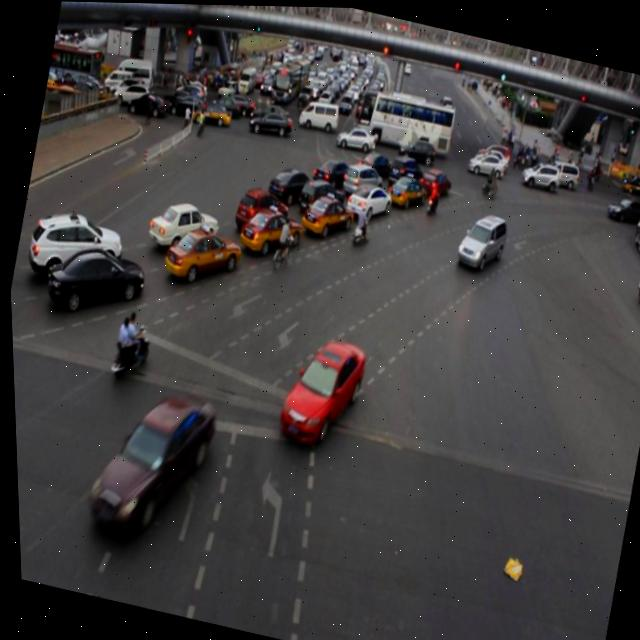car: (87, 383, 214, 530), (273, 326, 366, 449), (23, 203, 128, 292), (40, 239, 147, 318), (158, 220, 240, 288), (141, 196, 219, 255), (235, 199, 305, 258), (450, 209, 509, 275), (228, 181, 291, 237), (296, 188, 353, 240), (293, 171, 344, 220), (340, 178, 392, 225), (305, 153, 354, 198), (266, 162, 311, 206), (338, 157, 384, 200), (378, 150, 422, 192), (383, 166, 426, 207), (353, 146, 393, 183), (415, 163, 455, 198)
